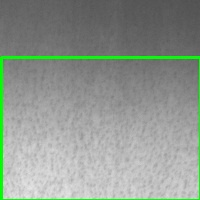pitted_surface: (1, 57, 200, 200)
